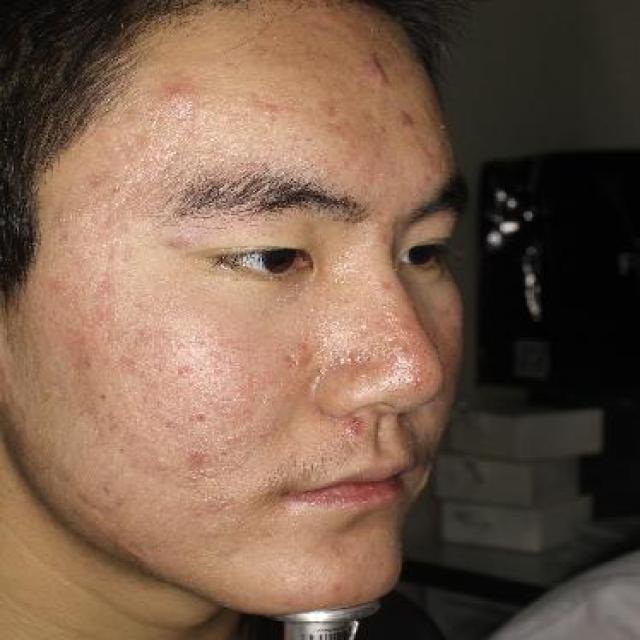acne: (352, 40, 397, 94), (152, 229, 190, 260), (180, 442, 213, 476), (393, 100, 422, 133), (184, 405, 216, 429)
